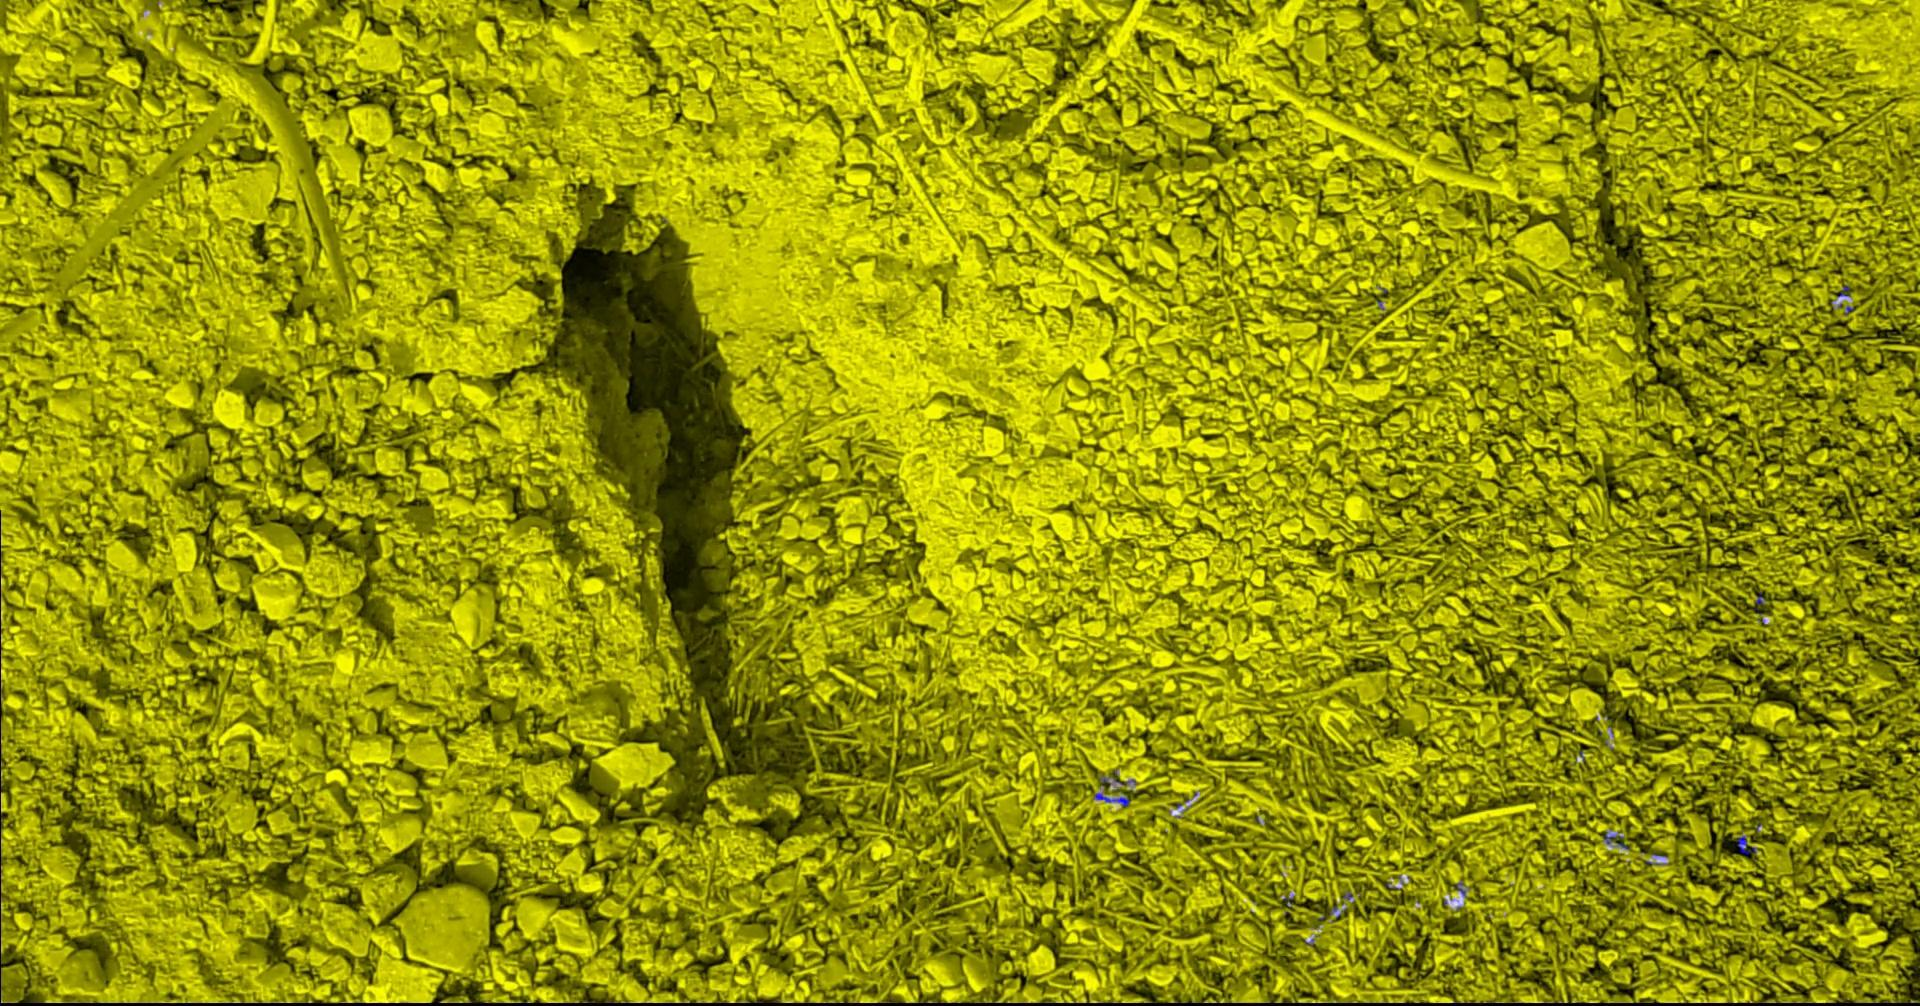ant: (1731, 835, 1756, 855), (1093, 793, 1129, 807)
